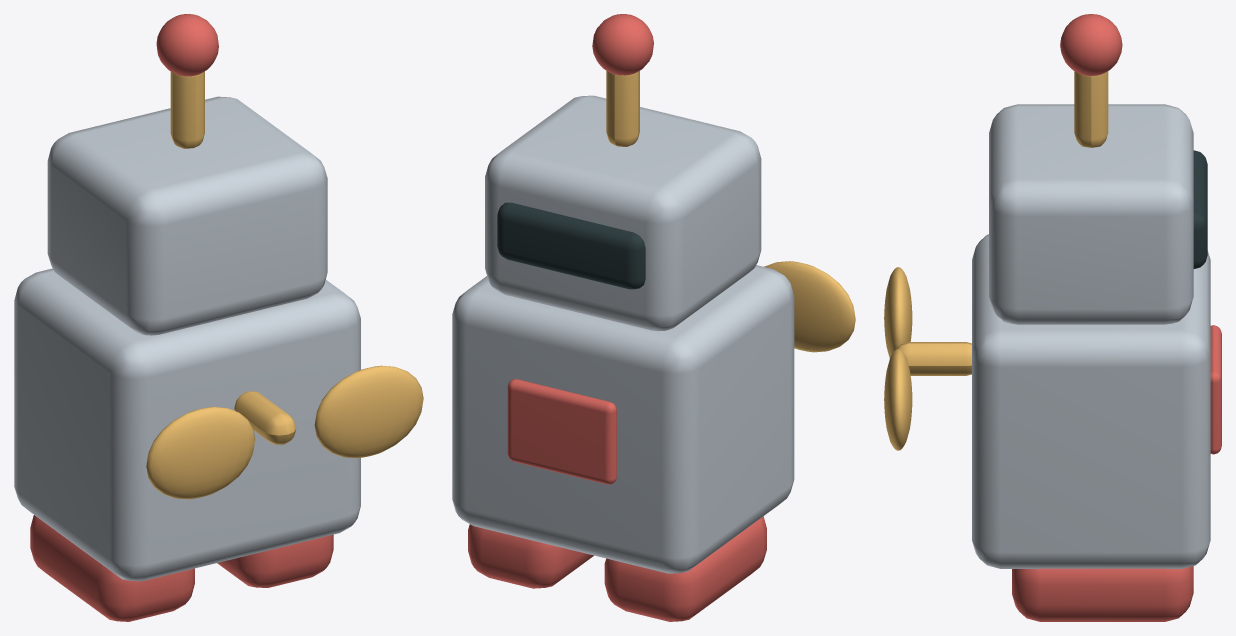
Rendered from Clockwork.fbx.
3 views of the same model, side by side, from view 1: azimuth 30°, elevation 25°; view 2: azimuth 150°, elevation 25°; view 3: azimuth 270°, elevation 25° (orthographic).
Visible parts, largest first — view 1: Clockwork torso, Clockwork head, Clockwork key wing, Clockwork key wing.001, Clockwork foot.001, Clockwork foot, Clockwork bulb, Clockwork antenna, Clockwork key stem; view 2: Clockwork torso, Clockwork head, Clockwork chest, Clockwork visor, Clockwork foot.001, Clockwork foot, Clockwork key wing.001, Clockwork bulb, Clockwork antenna; view 3: Clockwork torso, Clockwork head, Clockwork foot, Clockwork bulb, Clockwork antenna, Clockwork key wing, Clockwork key stem, Clockwork key wing.001, Clockwork visor, Clockwork chest.
Boxes of the visible parts, x1,y1,x2,y2 form: Clockwork torso: [14, 268, 360, 581]; Clockwork head: [47, 96, 327, 335]; Clockwork key wing: [314, 365, 423, 458]; Clockwork key wing.001: [146, 407, 255, 499]; Clockwork foot.001: [30, 515, 194, 621]; Clockwork foot: [217, 534, 333, 587]; Clockwork bulb: [156, 14, 218, 76]; Clockwork antenna: [170, 71, 204, 148]; Clockwork key stem: [234, 391, 296, 444]; Clockwork torso: [452, 265, 794, 573]; Clockwork head: [485, 95, 761, 331]; Clockwork chest: [507, 379, 616, 484]; Clockwork visor: [497, 202, 645, 289]; Clockwork foot.001: [604, 516, 766, 621]; Clockwork foot: [468, 524, 593, 588]; Clockwork key wing.001: [764, 261, 855, 352]; Clockwork bulb: [592, 14, 653, 75]; Clockwork antenna: [606, 71, 639, 146]; Clockwork torso: [972, 234, 1210, 568]; Clockwork head: [989, 104, 1193, 324]; Clockwork foot: [1012, 566, 1193, 621]; Clockwork bulb: [1060, 14, 1122, 75]; Clockwork antenna: [1074, 71, 1108, 147]; Clockwork key wing: [884, 348, 912, 450]; Clockwork key stem: [897, 342, 971, 375]; Clockwork key wing.001: [884, 267, 912, 358]; Clockwork visor: [1193, 150, 1207, 268]; Clockwork chest: [1210, 325, 1221, 454].
Size of the model in its own units: 0.56 by 1.08 by 0.595.
